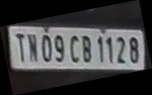character: (26, 33, 38, 63), (68, 35, 80, 63), (128, 35, 139, 64), (115, 36, 126, 64), (15, 33, 25, 63), (53, 34, 64, 61), (41, 34, 51, 62), (81, 34, 91, 62), (104, 36, 114, 63), (96, 34, 104, 64)
